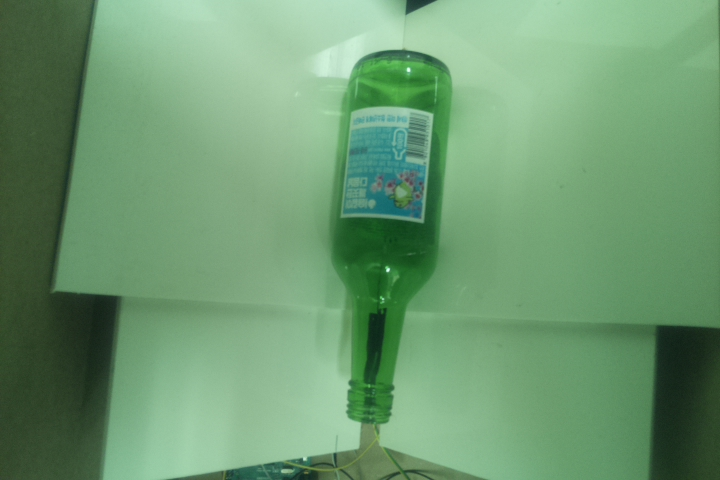soju: (331, 49, 453, 425)
